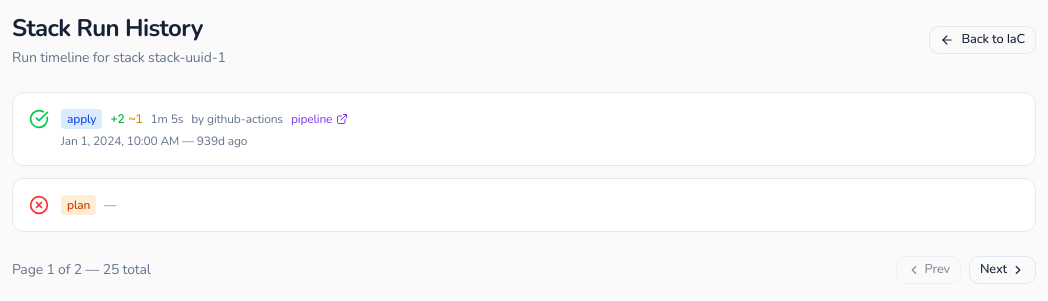
Test: IacStackRunsClient › disables the Next button on the last page
Note: Advance to page 2 (last page)
Step 1. Click the button "Next" → [1002, 270], box x1=969 y1=256 x2=1036 y2=284
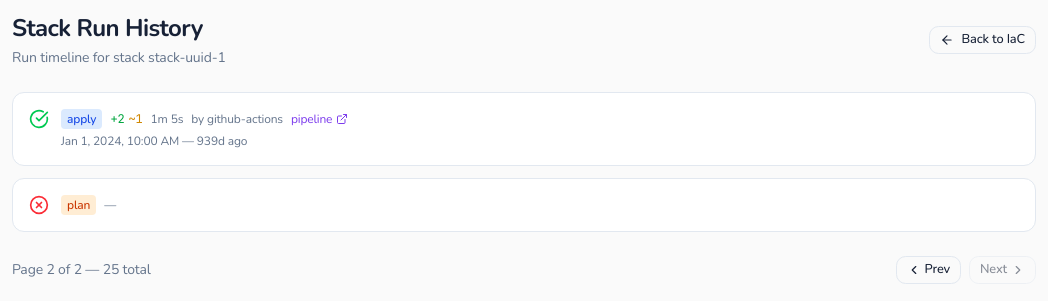
Now the button "Next" is disabled, box x1=969 y1=256 x2=1036 y2=284
